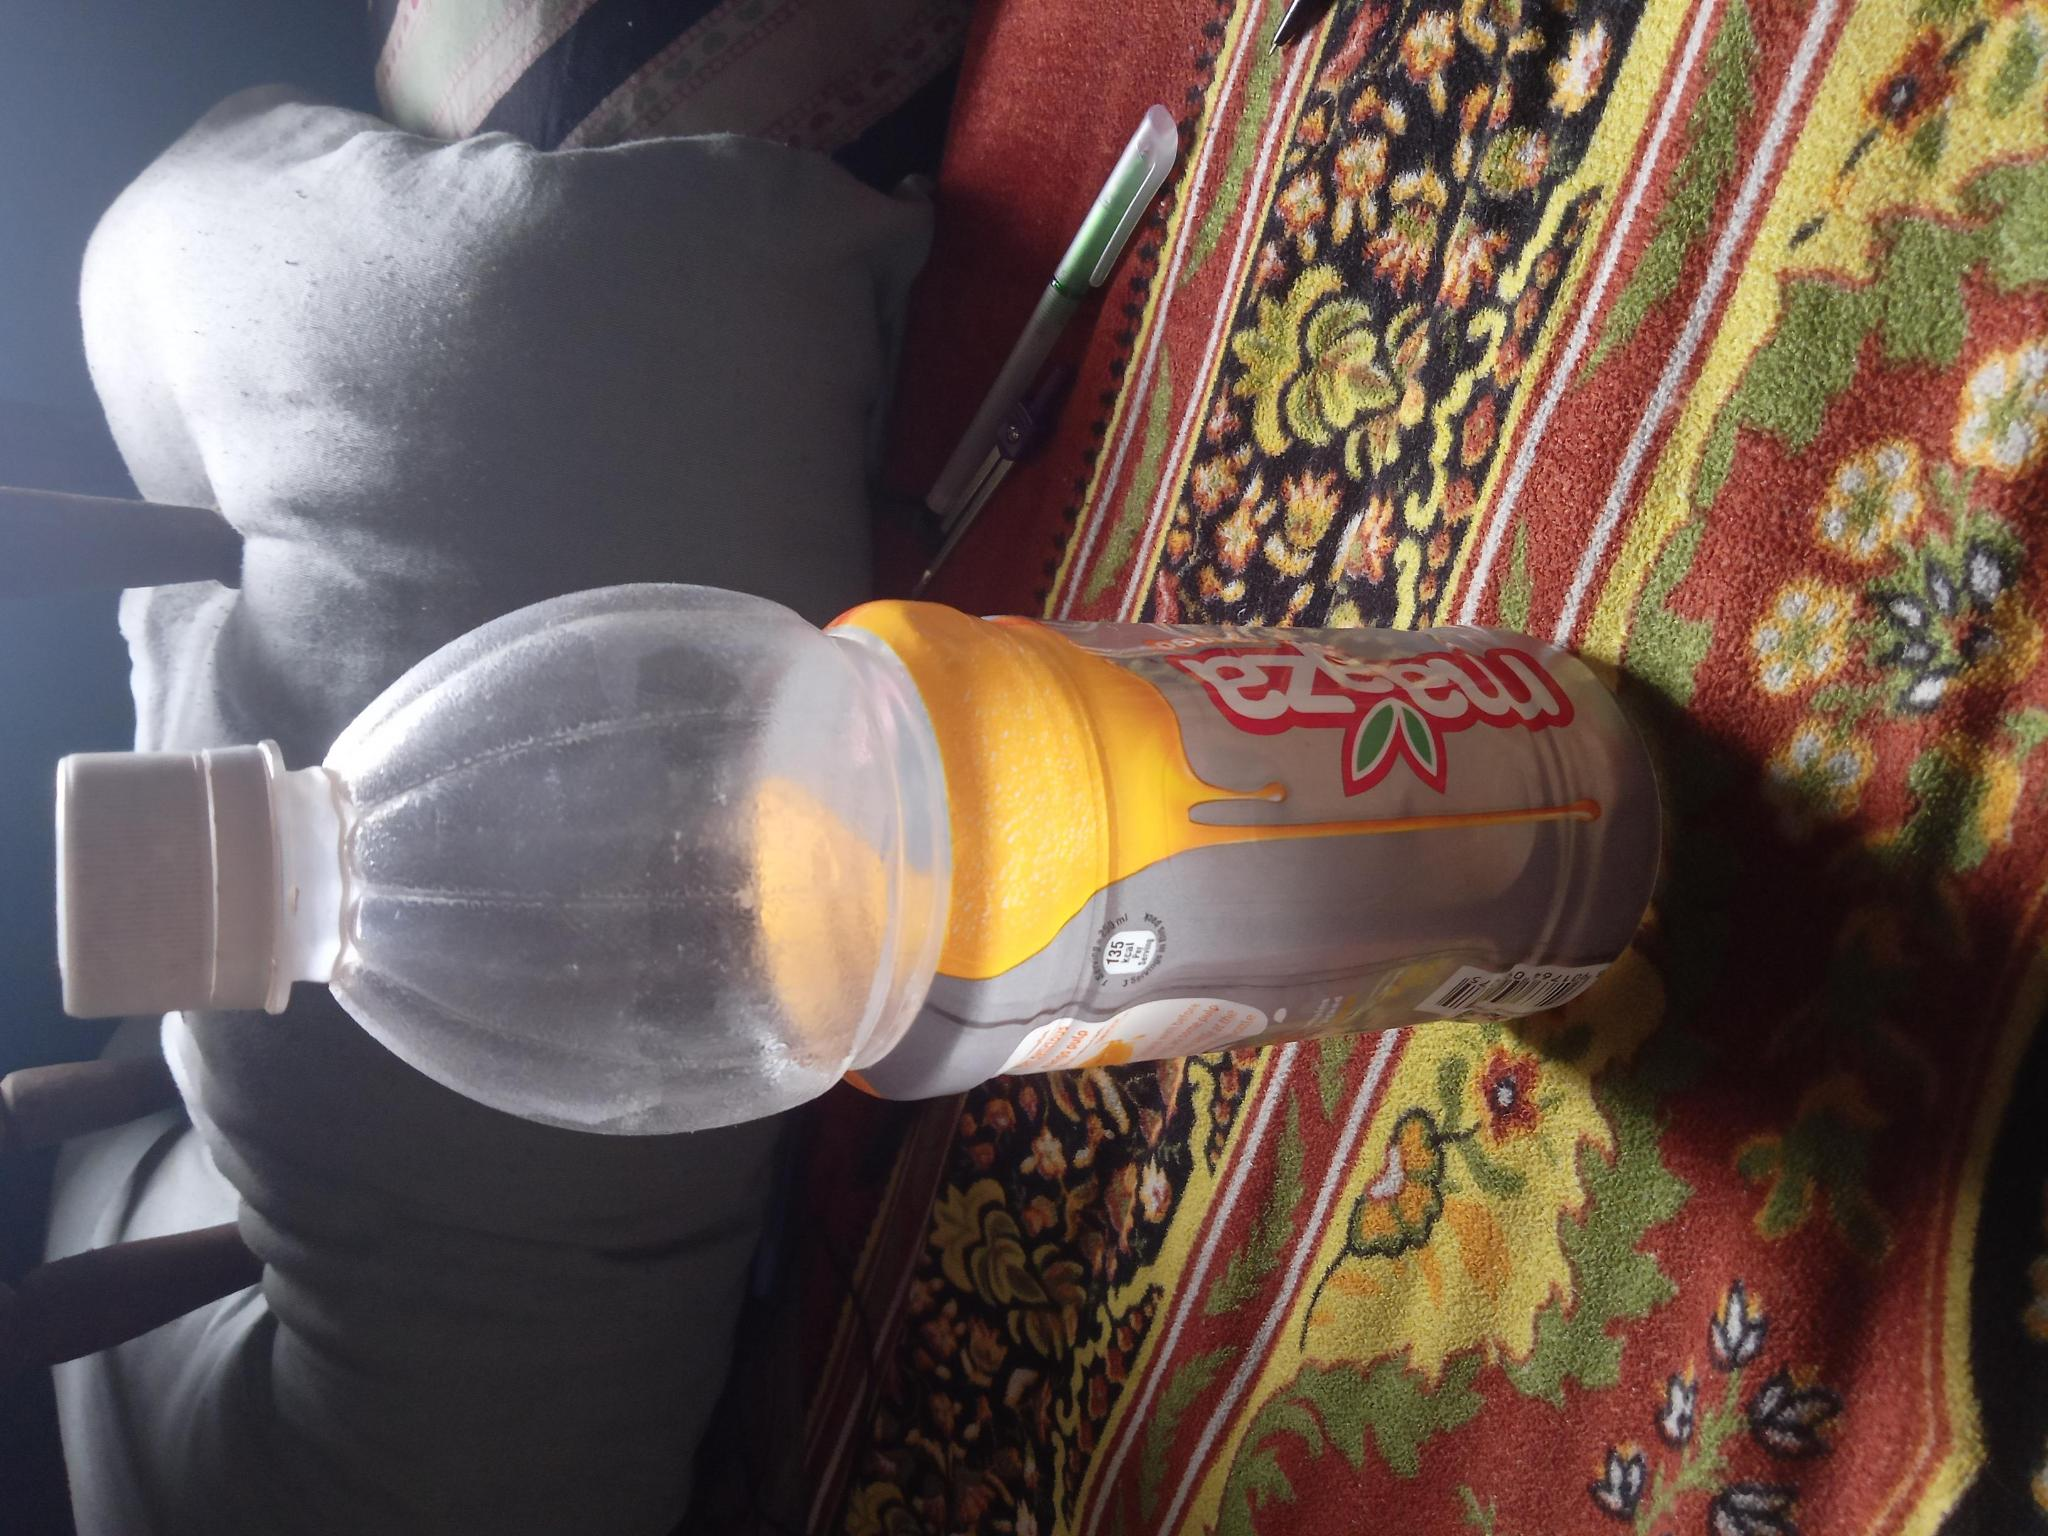bottle: (45, 576, 1680, 1150)
